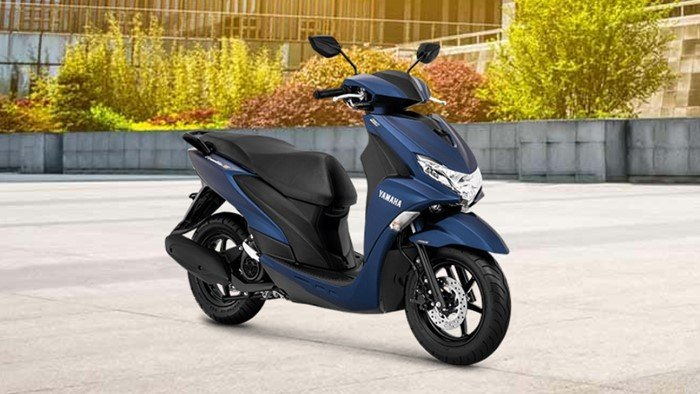motor: (172, 81, 515, 380)
